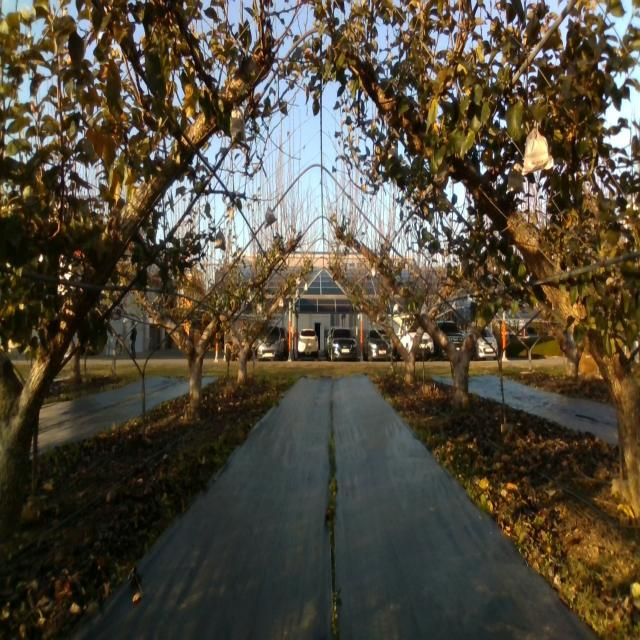pearbags: (522, 122, 554, 177), (230, 105, 247, 143), (507, 162, 525, 194), (265, 206, 277, 228), (214, 229, 226, 251)
